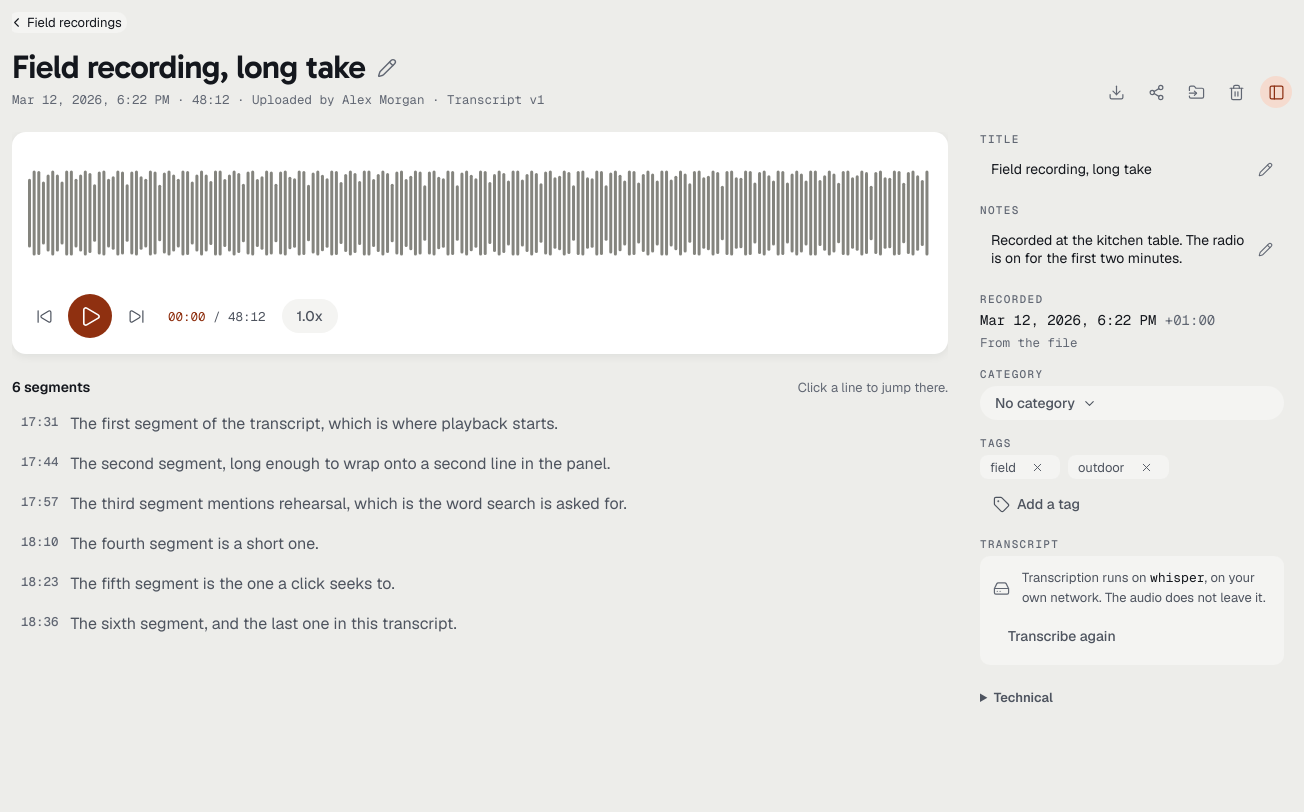
it: correcting a field › saves the title when the field is left, with no Save button anywhere
Click the button "Field recording, long take" below "Title": (1132, 169) [980,151,1284,187]
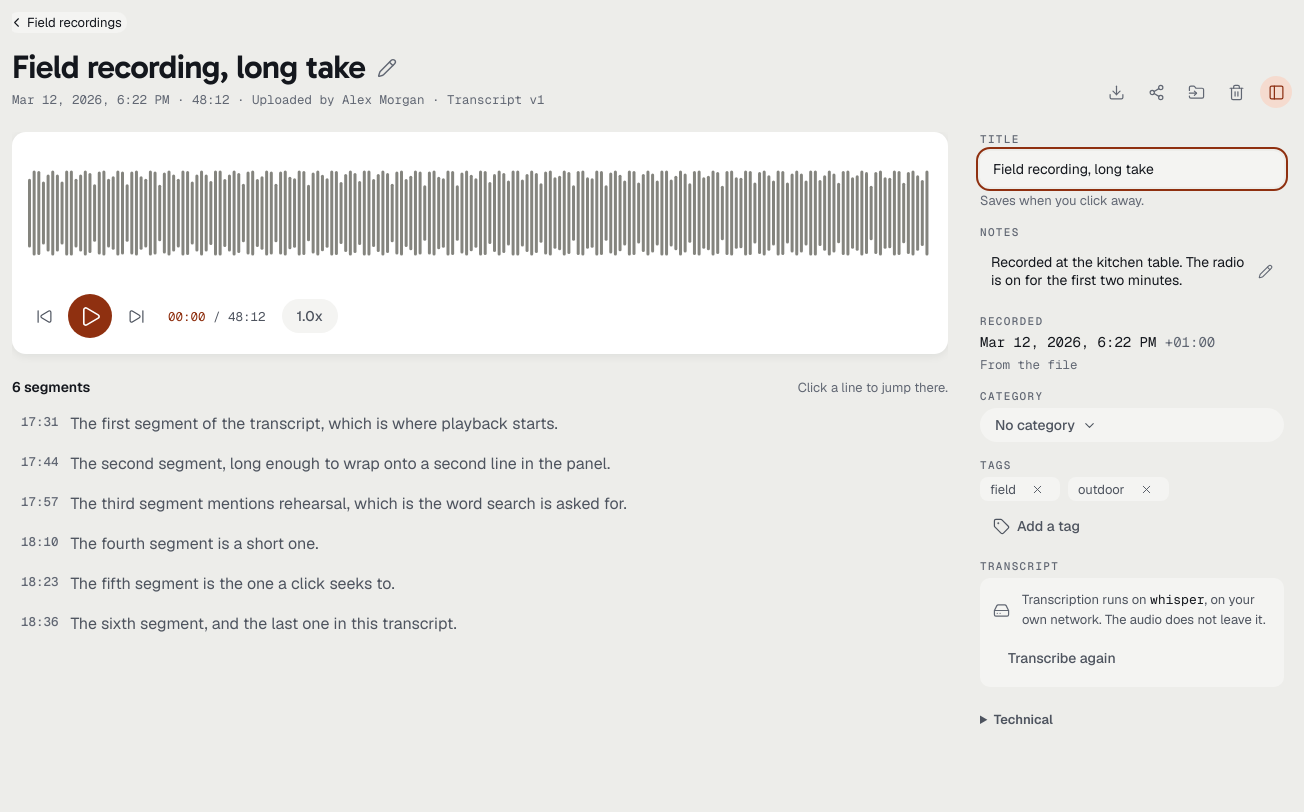
Replace the text in the field named "Title" with "Field recording, long take, 1998": (1132, 169) [991,159,1273,179]
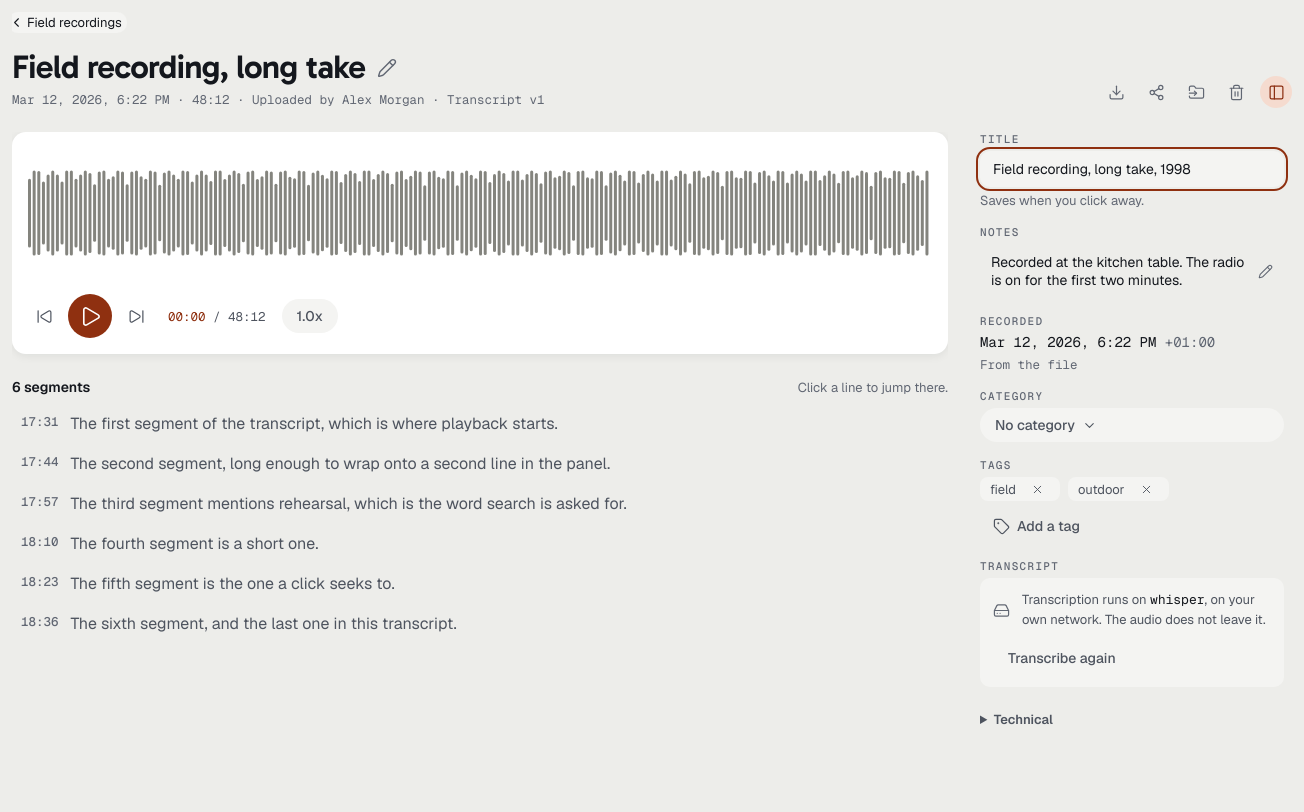
Press Tab
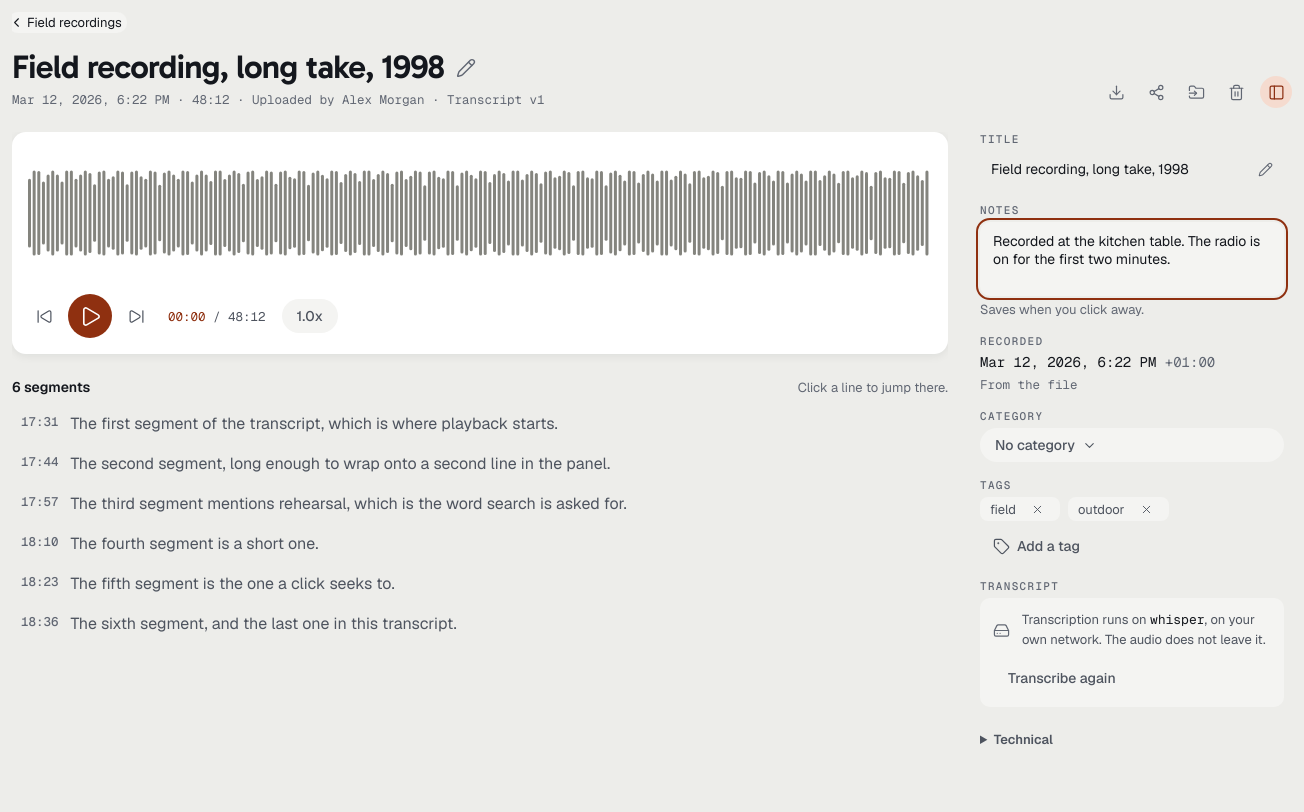
Expected: the heading "Field recording, long take, 1998" is shown, [12,49,476,85]
